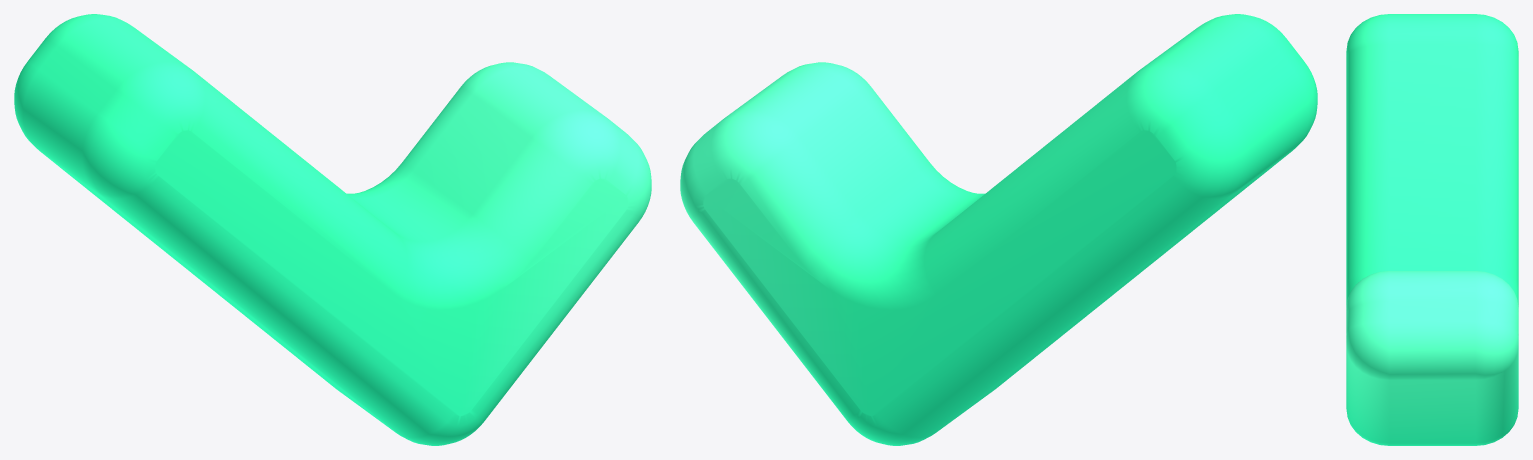
The model's file is check.glb.
3 views of the same model, side by side, from view 1: azimuth 30°, elevation 25°; view 2: azimuth 150°, elevation 25°; view 3: azimuth 270°, elevation 25° (orthographic). The views are drawn at different scales.
Parts seen in each view (by area): view 1: check; view 2: check; view 3: check.
Part boxes in pixels (left/top/right/bottom): check: left=14, top=14, right=651, bottom=445; check: left=680, top=14, right=1317, bottom=445; check: left=1346, top=14, right=1518, bottom=445.
Bounding box in the file's own units: 0.085 × 0.0644 × 0.031.
